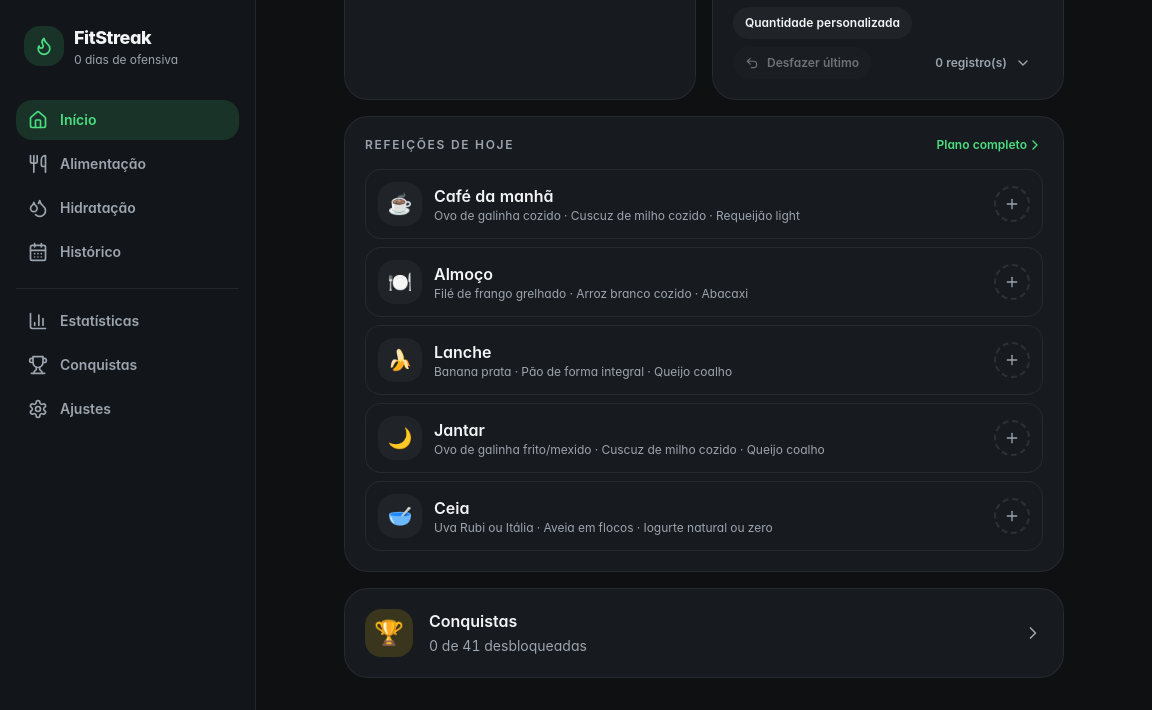
Test case: fluxos principais › registra uma refeição com a opção principal
The image size is (1152, 710).
(page scrolled)
Click the button named "Registrar Lanche": (1012, 360) left=994, top=342, right=1030, bottom=378
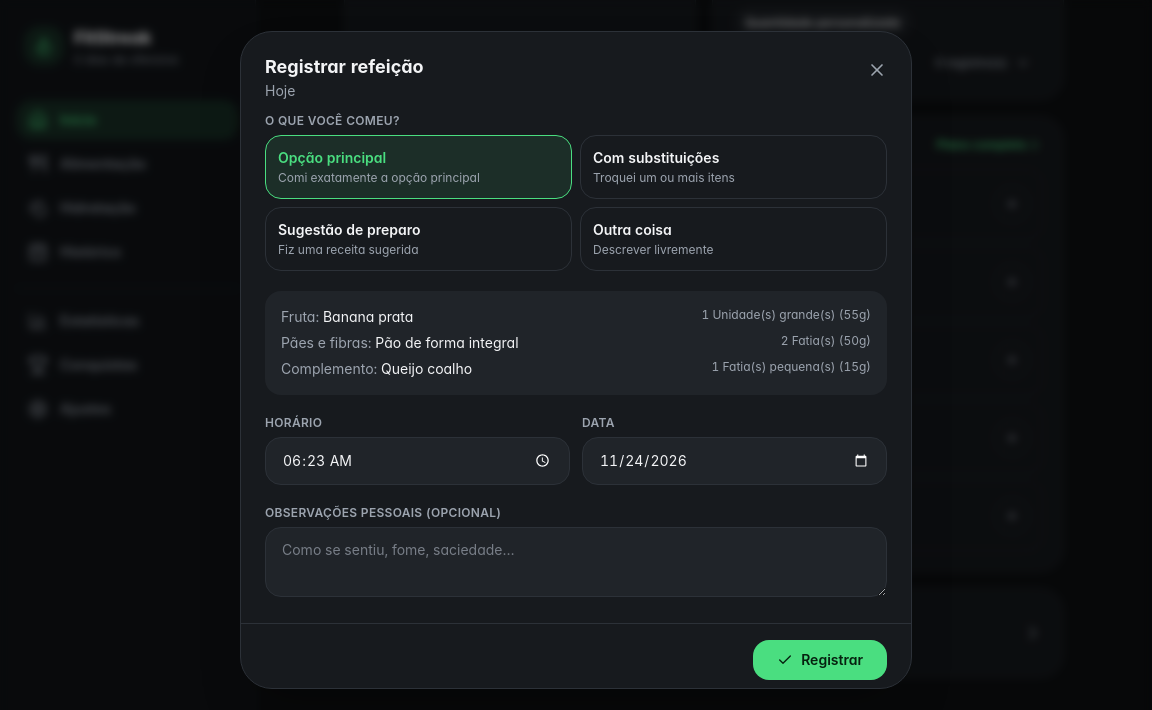
Click the button "Registrar": (820, 660) left=753, top=640, right=887, bottom=680
(page scrolled)
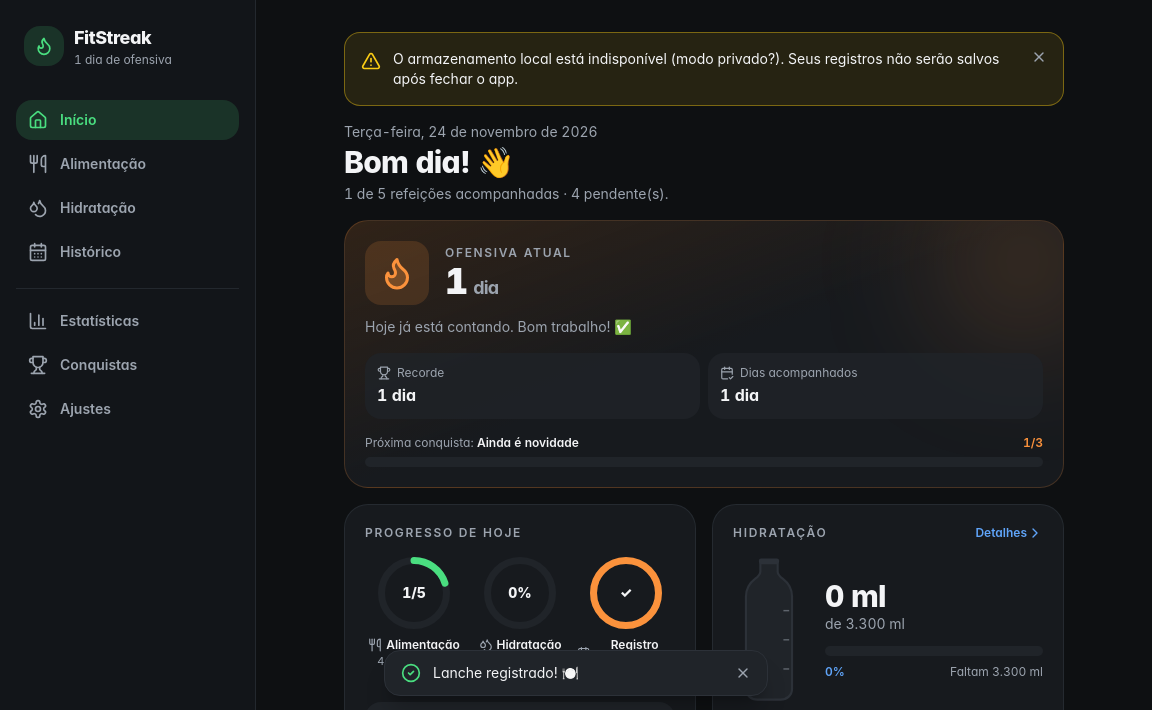
Now the text "1 de 5 refeições acompanhadas · 4 pendente(s)." is shown, box left=344, top=184, right=668, bottom=204
